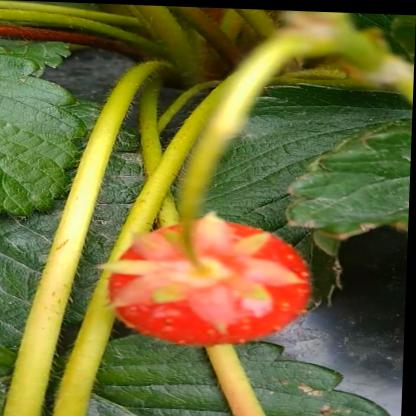ripe: (108, 216, 318, 343)
